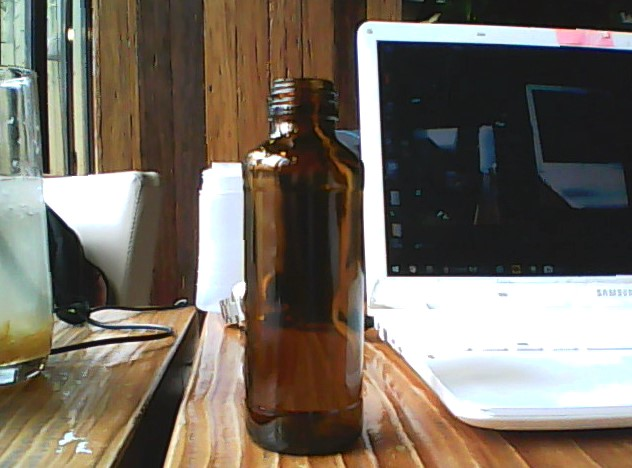Glass: (237, 72, 370, 452)
